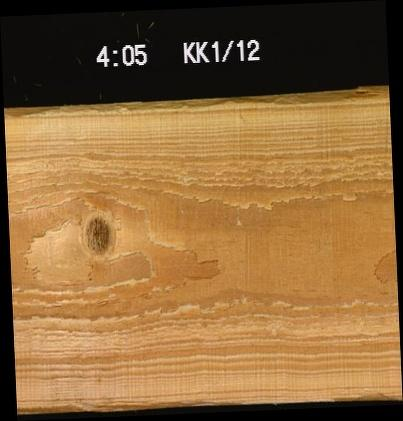sound_knot: (83, 214, 112, 255)
wave: (3, 91, 389, 109), (16, 400, 243, 411), (330, 392, 402, 402)
